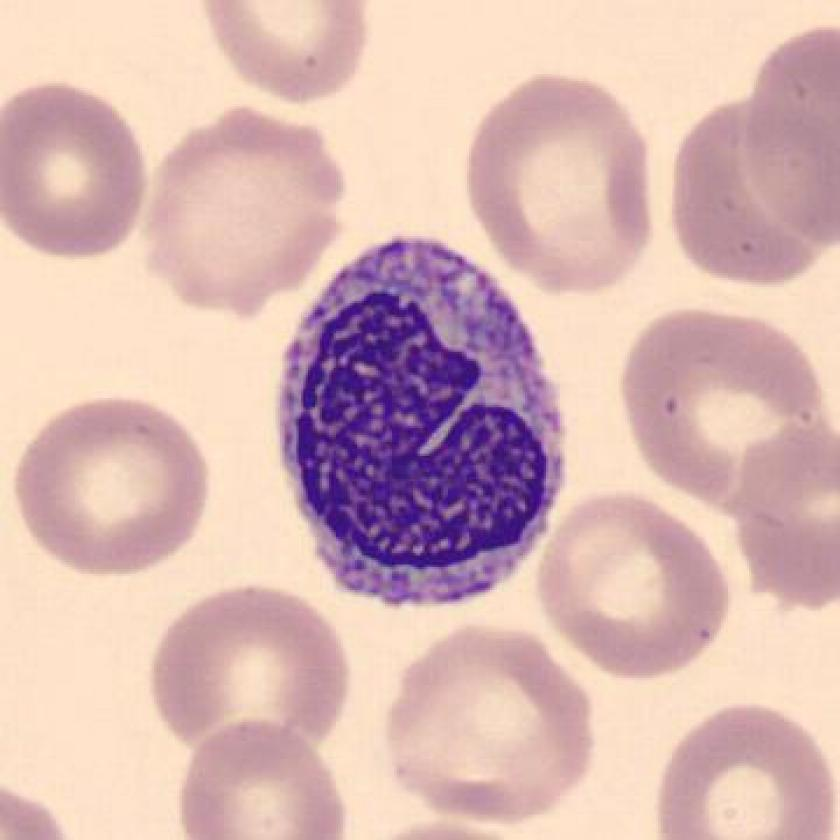monocyte: (258, 214, 594, 628)
